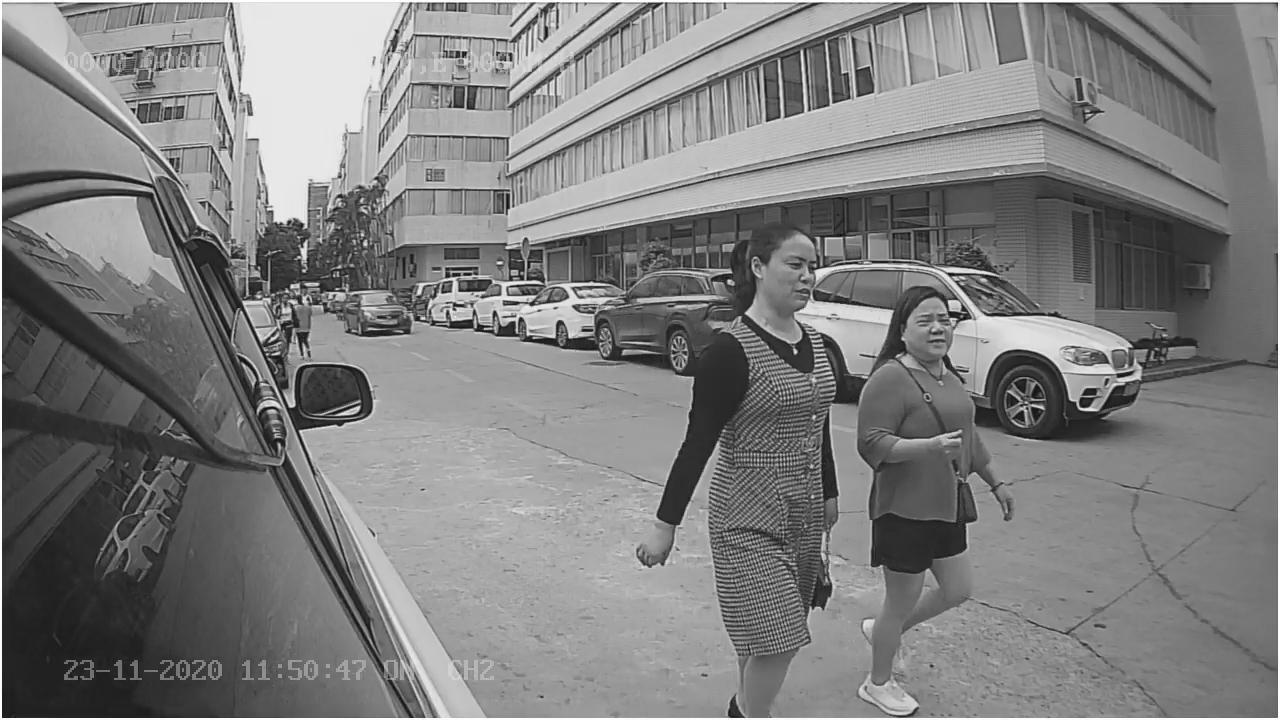person: (634, 206, 843, 719), (852, 281, 1014, 717)
